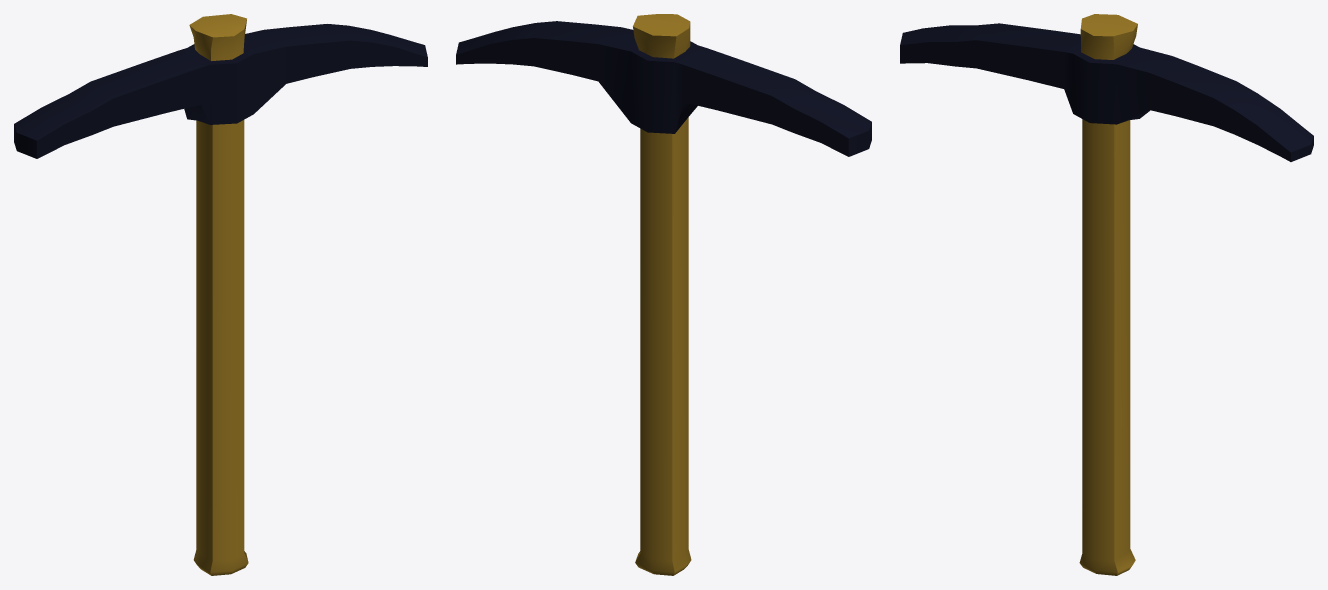
Rendered from picaxe_texture.obj.
3 renders of one model, left to right at view 1: azimuth 30°, elevation 25°; view 2: azimuth 150°, elevation 25°; view 3: azimuth 330°, elevation 25°, orthographic.
Parts seen in each view (by area): view 1: pCube1; view 2: pCube1; view 3: pCube1.
Part boxes in pixels (x1,y1,x2,y2): pCube1: [14, 14, 427, 575]; pCube1: [456, 14, 871, 575]; pCube1: [900, 14, 1313, 575].
Bounding box in the file's own units: 5.1 × 6.52 × 0.7235.
